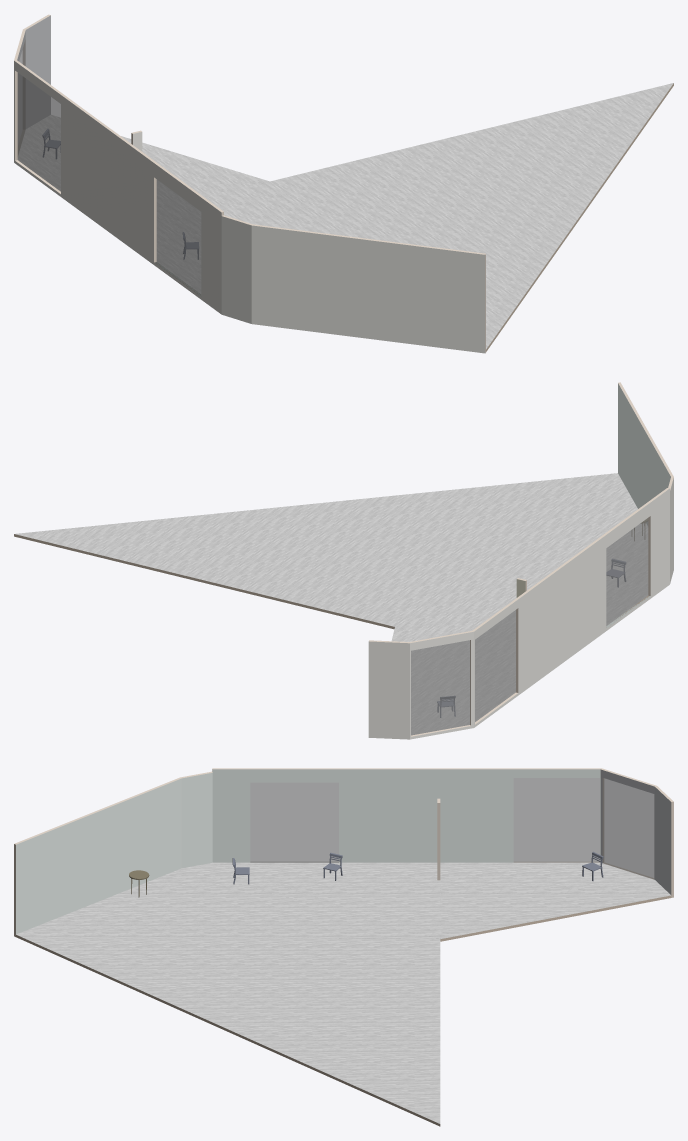
The picture shows the model from 3 angles, top to bottom: view 1: azimuth 30°, elevation 25°; view 2: azimuth 150°, elevation 25°; view 3: azimuth 270°, elevation 25°; orthographic projection. The views are drawn at different scales.
Visible parts, largest first — view 1: floor_Other_1 (×2), wall_4, wall_0 (×3), door_1 (×2), door_0 (×2), floor_Other_2, wall_5, wall_2; view 2: floor_Other_1 (×2), wall_0 (×3), door_2 (×2), floor_Other_2, door_1 (×2), door_0 (×2), wall_2, wall_4, wall_1; view 3: floor_Other_1 (×2), wall_0 (×2), wall_4, door_1 (×2), door_0 (×2), floor_Other_2 (×2), door_2 (×2), wall_5, wall_2, wall_1.
Boxes of the visible parts, box(x1,y1,x2,y2) form: floor_Other_1 (×2): box(156, 83, 673, 351); wall_4: box(251, 225, 485, 353); wall_0 (×3): box(14, 60, 223, 314); door_1 (×2): box(18, 73, 60, 191); door_0 (×2): box(157, 180, 200, 293); floor_Other_2: box(18, 115, 269, 208); wall_5: box(221, 216, 251, 323); wall_2: box(25, 15, 50, 128); floor_Other_1 (×2): box(14, 473, 649, 655); wall_0 (×3): box(472, 488, 669, 727); door_2 (×2): box(411, 640, 469, 735); floor_Other_2: box(391, 627, 515, 734); door_1 (×2): box(475, 610, 515, 721); door_0 (×2): box(606, 518, 647, 625); wall_2: box(368, 641, 409, 739); wall_4: box(618, 383, 670, 525); wall_1: box(410, 631, 473, 739); floor_Other_1 (×2): box(16, 862, 440, 1126); wall_0 (×2): box(212, 768, 601, 862); wall_4: box(16, 778, 181, 934); door_1 (×2): box(514, 778, 599, 862); door_0 (×2): box(250, 783, 338, 862); floor_Other_2 (×2): box(440, 862, 671, 941); door_2 (×2): box(603, 778, 653, 879); wall_5: box(181, 773, 212, 868); wall_2: box(655, 787, 671, 894); wall_1: box(600, 769, 654, 879).
Bounding box in the file's own units: 21.93 × 3.73 × 23.28.
Materials: 11 (2 with a texture image).
